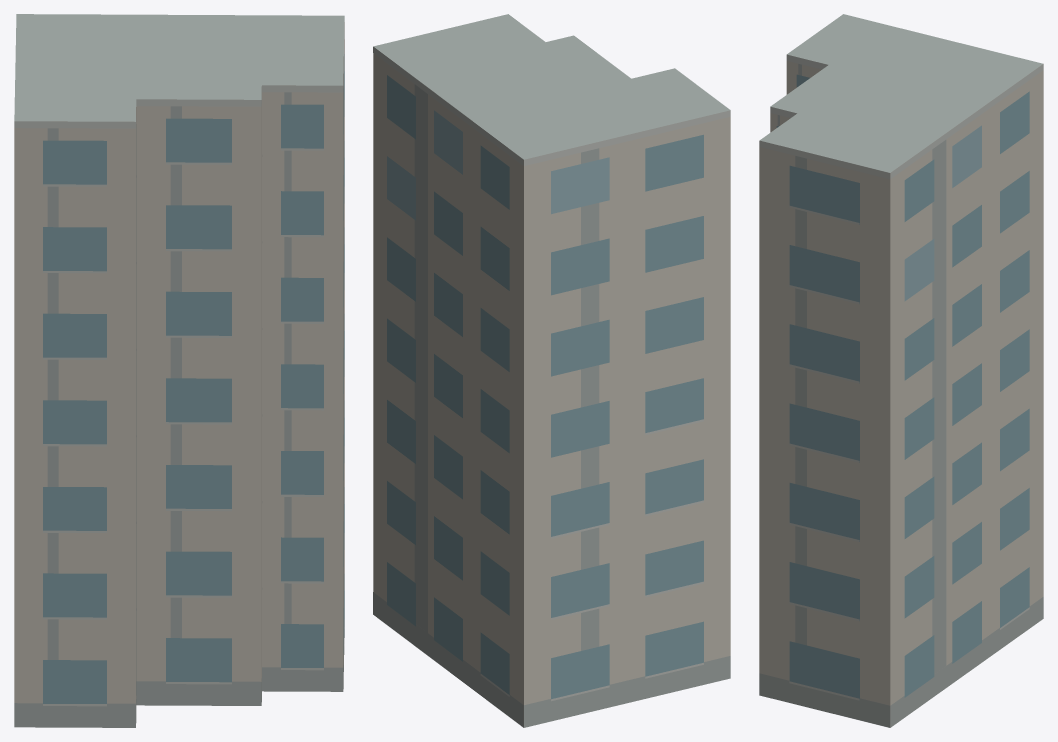
File: survey-upis-33008158.glb
3 renders of one model, left to right at view 1: azimuth 30°, elevation 25°; view 2: azimuth 150°, elevation 25°; view 3: azimuth 270°, elevation 25°, orthographic. The views are drawn at different scales.
Visible parts, largest first — view 1: survey-upis-33008158.tmp; view 2: survey-upis-33008158.tmp; view 3: survey-upis-33008158.tmp.
Part boxes in pixels (bbox=[...]): survey-upis-33008158.tmp: bbox=[14, 14, 344, 727]; survey-upis-33008158.tmp: bbox=[373, 14, 730, 727]; survey-upis-33008158.tmp: bbox=[759, 14, 1043, 727].
Size of the model in its own units: 13.13 by 21.35 by 9.92.
